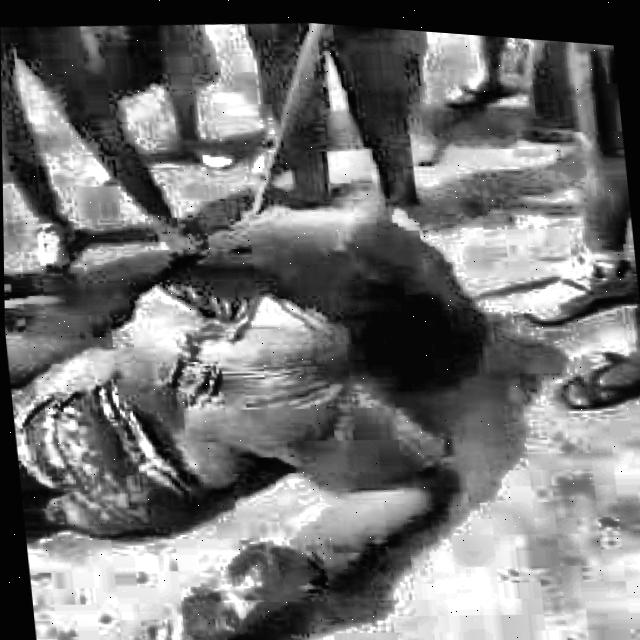robbery: (0, 23, 640, 640)
